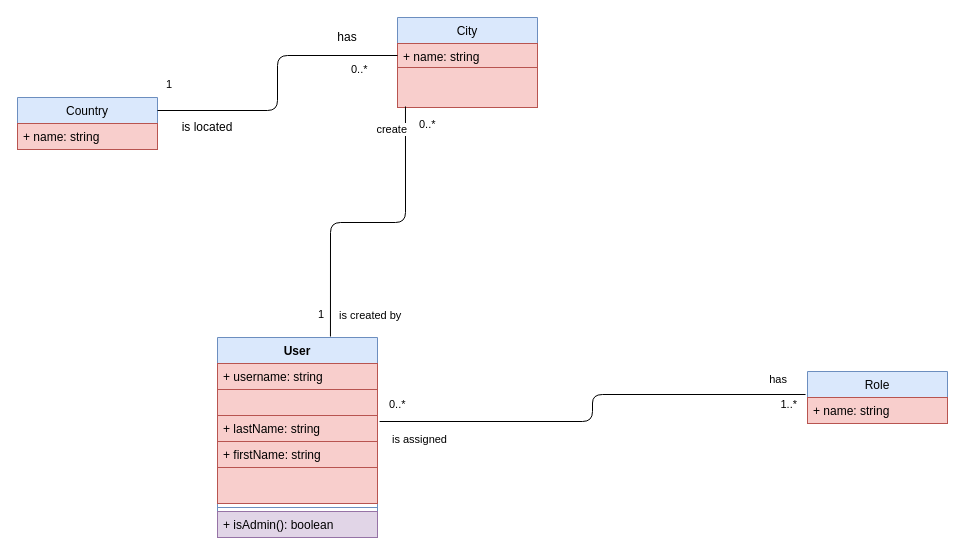
Image size: 965x558. Some labels were removed from this diagram. The shapes that lost their labels are listed below. From the top down, each one's centre as x and y in pixels, then its label:
At [467,87]: "+ description: string".
At [297,402]: "+ password: string".
At [297,485]: "+ salt: string".
